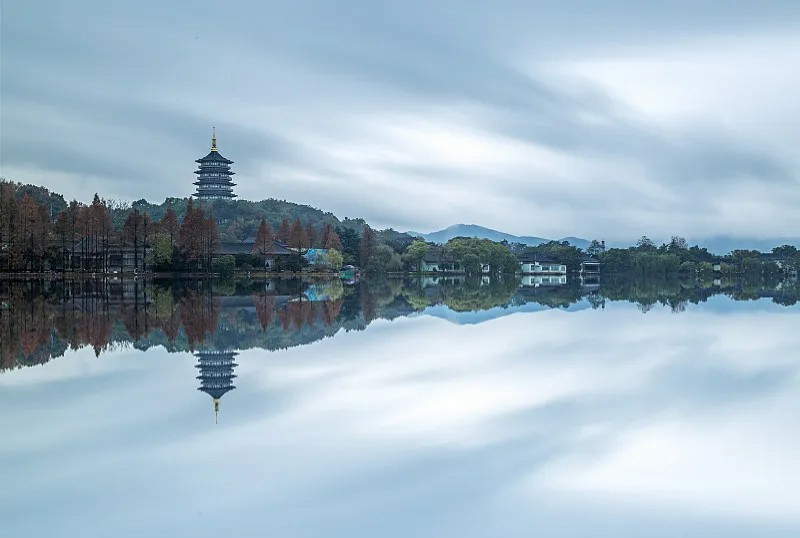Leifeng: (192, 124, 238, 204)
